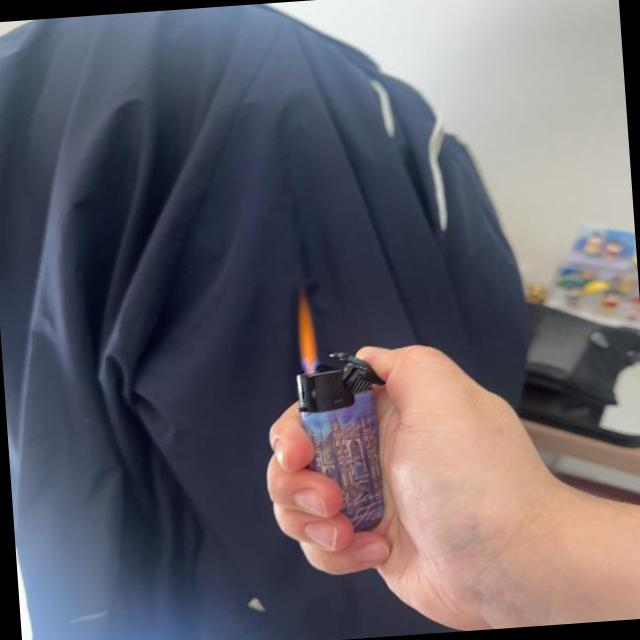Fire: (294, 296, 320, 370)
